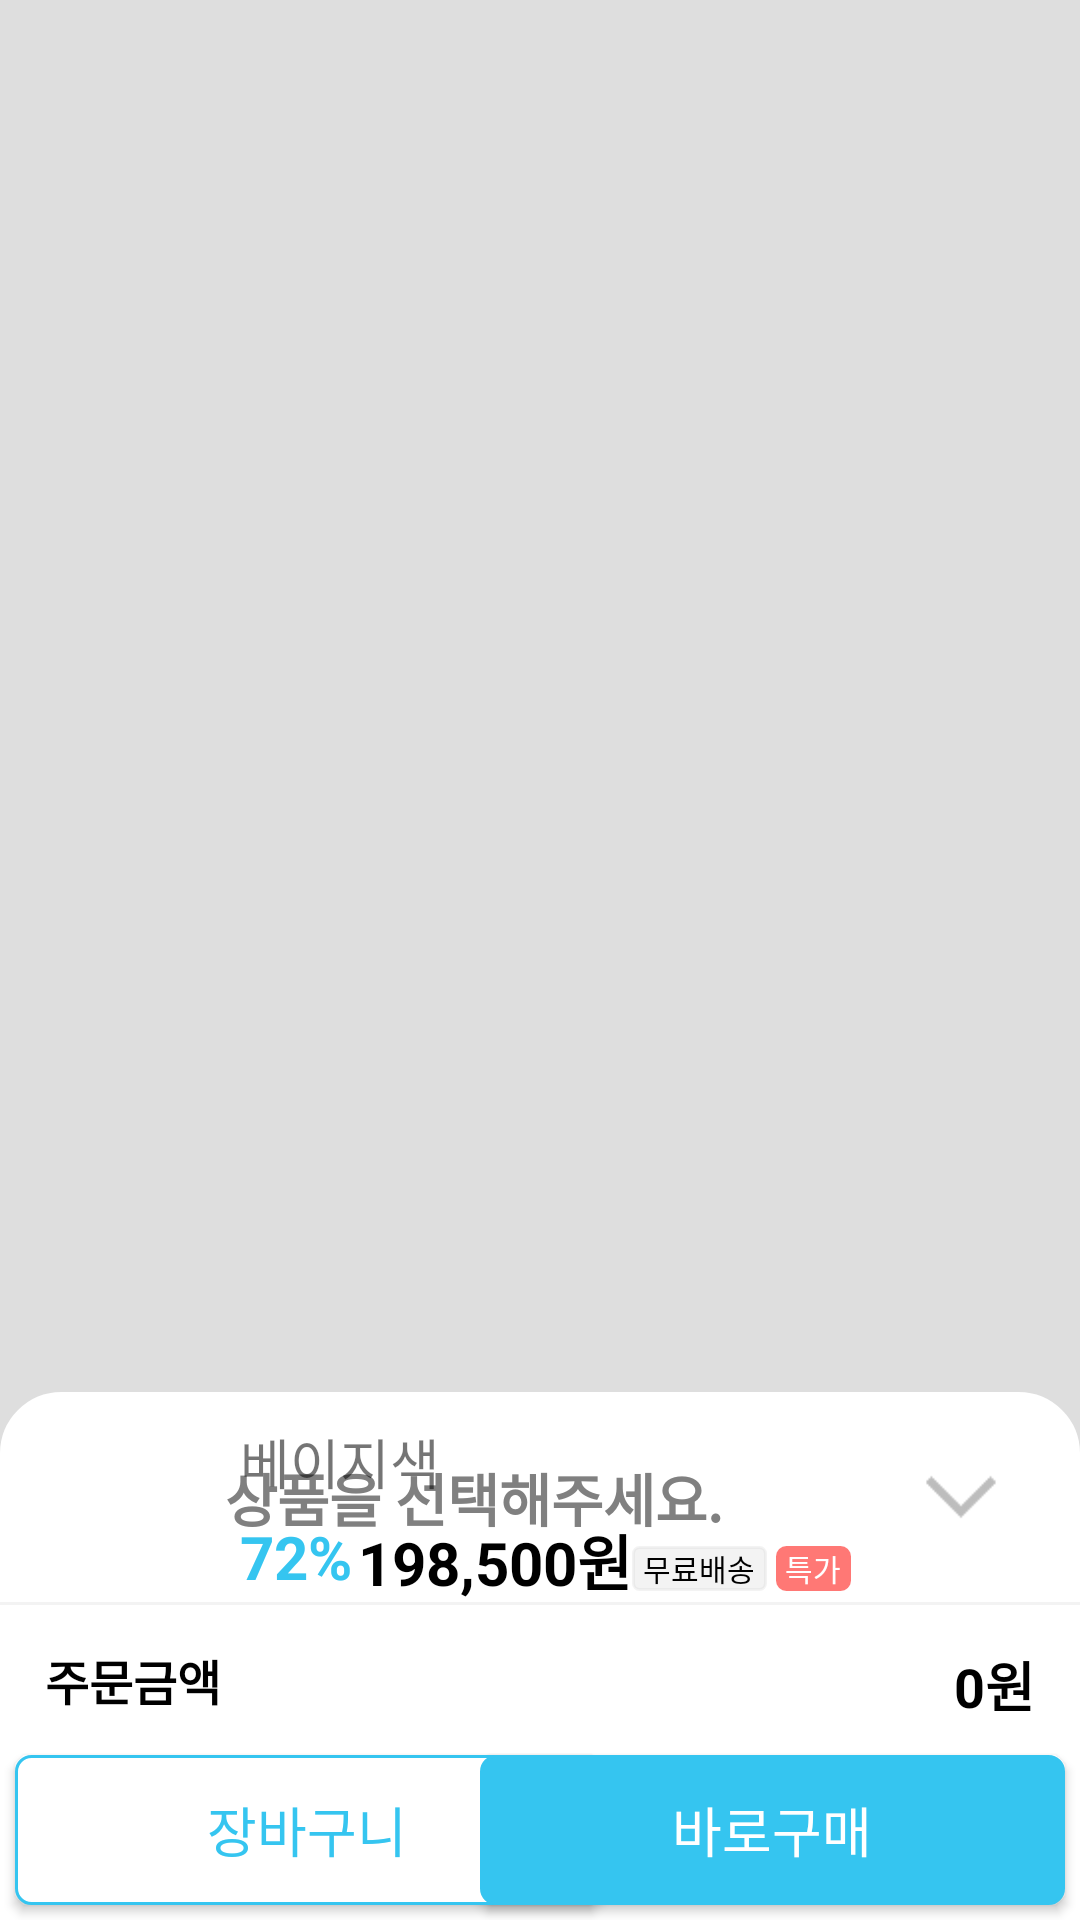

Where to tap for icons on this 1080×1920 app screen, as (x=x, y=y):
down arrow: (x=961, y=1497)
